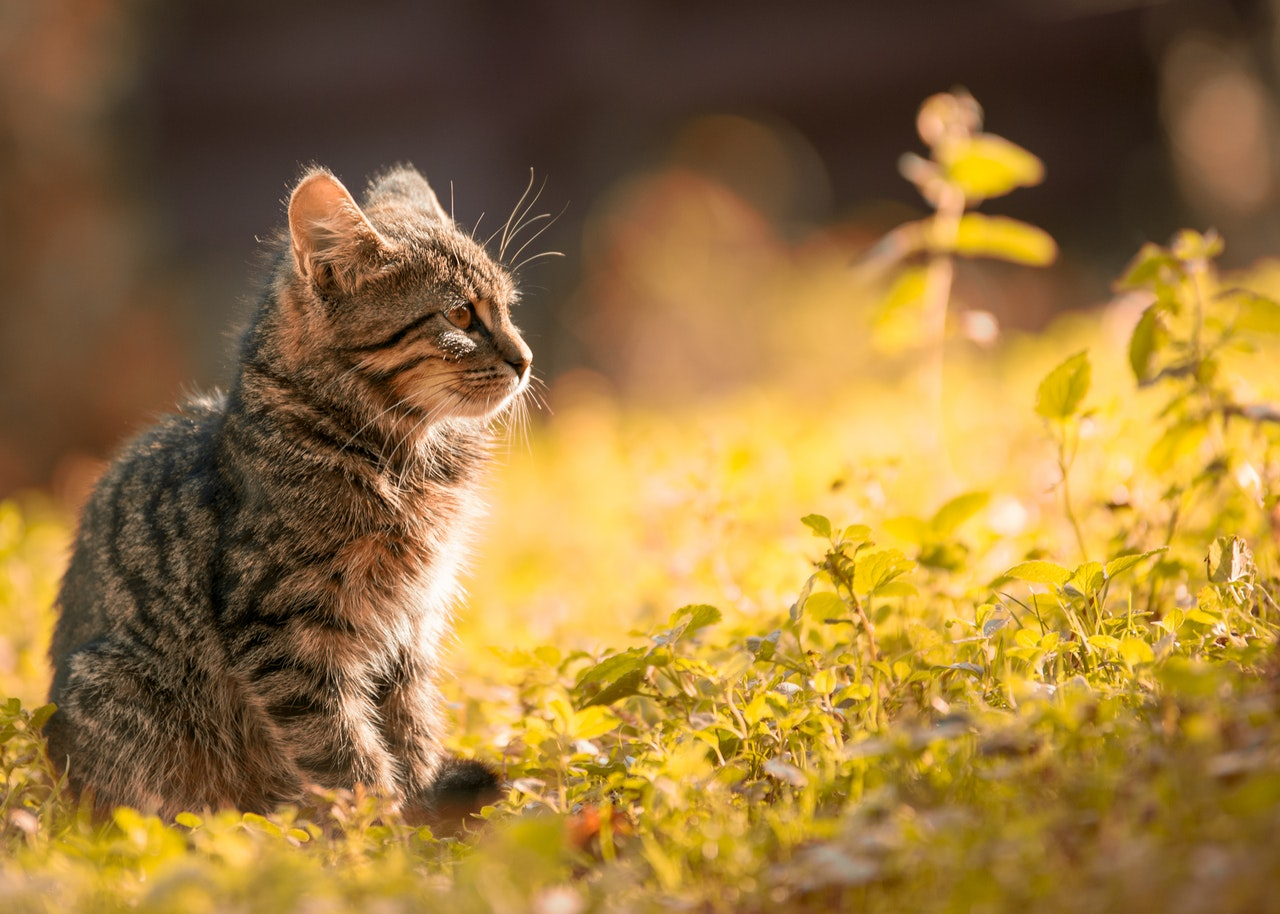cat: (69, 167, 523, 825)
